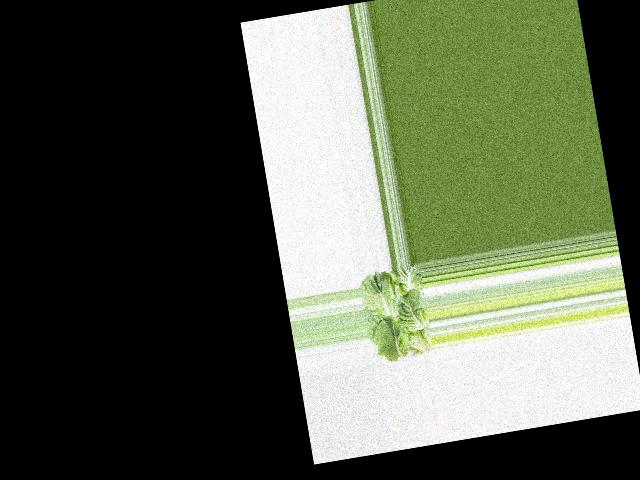lettuce: (359, 264, 435, 362)
